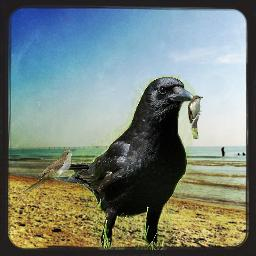Crow: (53, 75, 196, 250)
Cuckoo: (22, 149, 76, 192), (188, 94, 203, 139)
